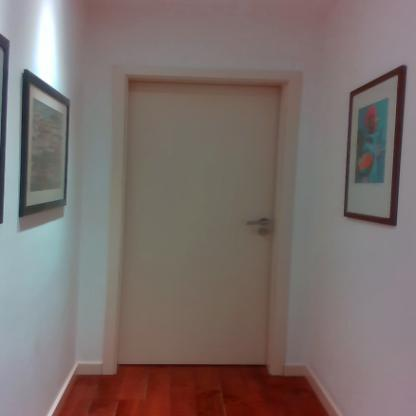door: (128, 81, 274, 364)
lever: (245, 217, 271, 227)
